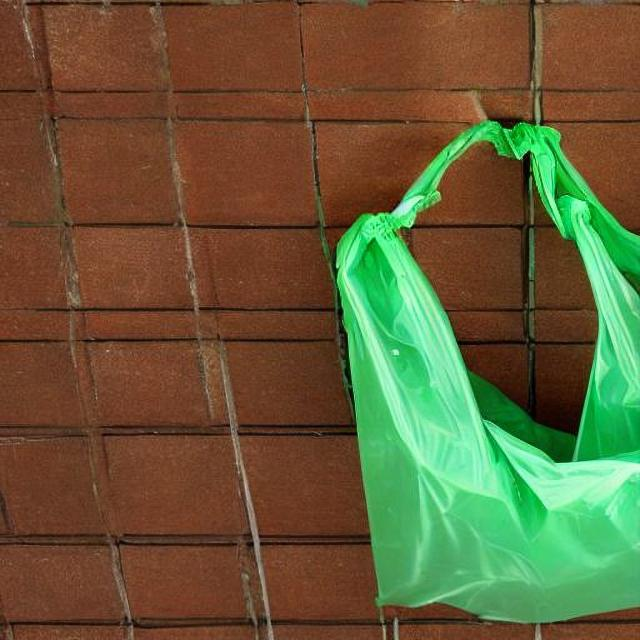plastic bag: (320, 102, 638, 624)
